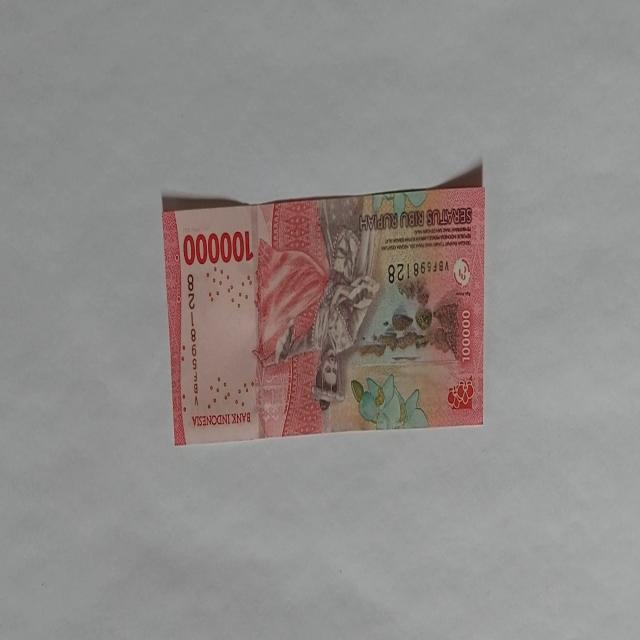seratus ribu rupiah: (161, 184, 485, 446), (268, 213, 380, 410)
